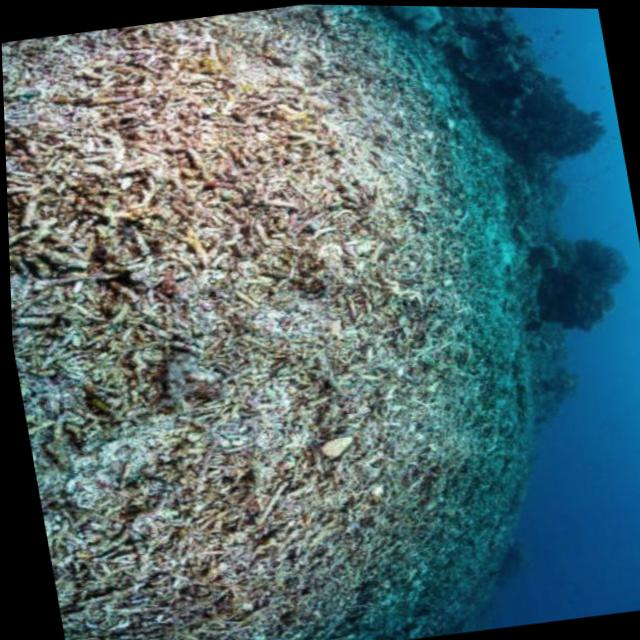Dead Coral: (108, 55, 518, 554)
